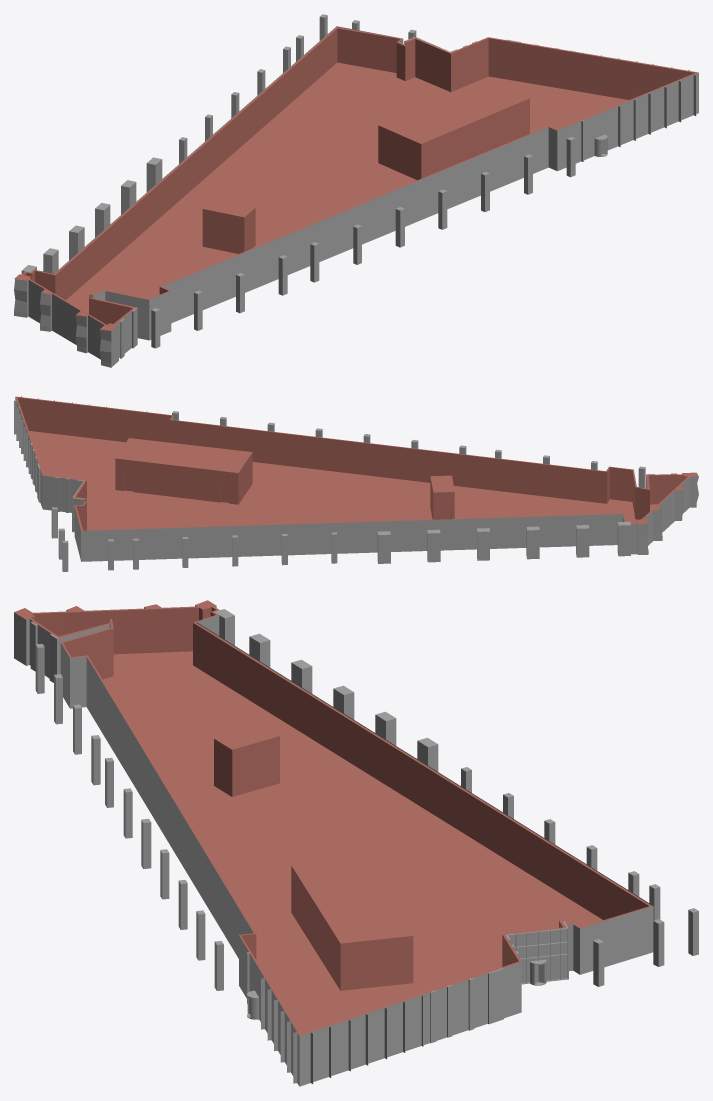
The model's file is JLL_Ruya_Region3DModels_Riyadh_Derived_HeroBuildings_Building 305_Floors_KSA_04_04105_B29_Floor_T0_1.fbx.
The picture shows the model from 3 angles, top to bottom: view 1: azimuth 30°, elevation 25°; view 2: azimuth 150°, elevation 25°; view 3: azimuth 270°, elevation 25°; orthographic projection. The views are drawn at different scales.
Visible parts, largest first — view 1: KSA_04_04105_B29_Floor_T0_1; view 2: KSA_04_04105_B29_Floor_T0_1; view 3: KSA_04_04105_B29_Floor_T0_1.
Part boxes in pixels (left/top/right/bottom): KSA_04_04105_B29_Floor_T0_1: left=14, top=14, right=698, bottom=367; KSA_04_04105_B29_Floor_T0_1: left=14, top=396, right=698, bottom=571; KSA_04_04105_B29_Floor_T0_1: left=14, top=600, right=698, bottom=1086.
Size of what is drawn, in the model's own units: 12038 by 647 by 7915.
